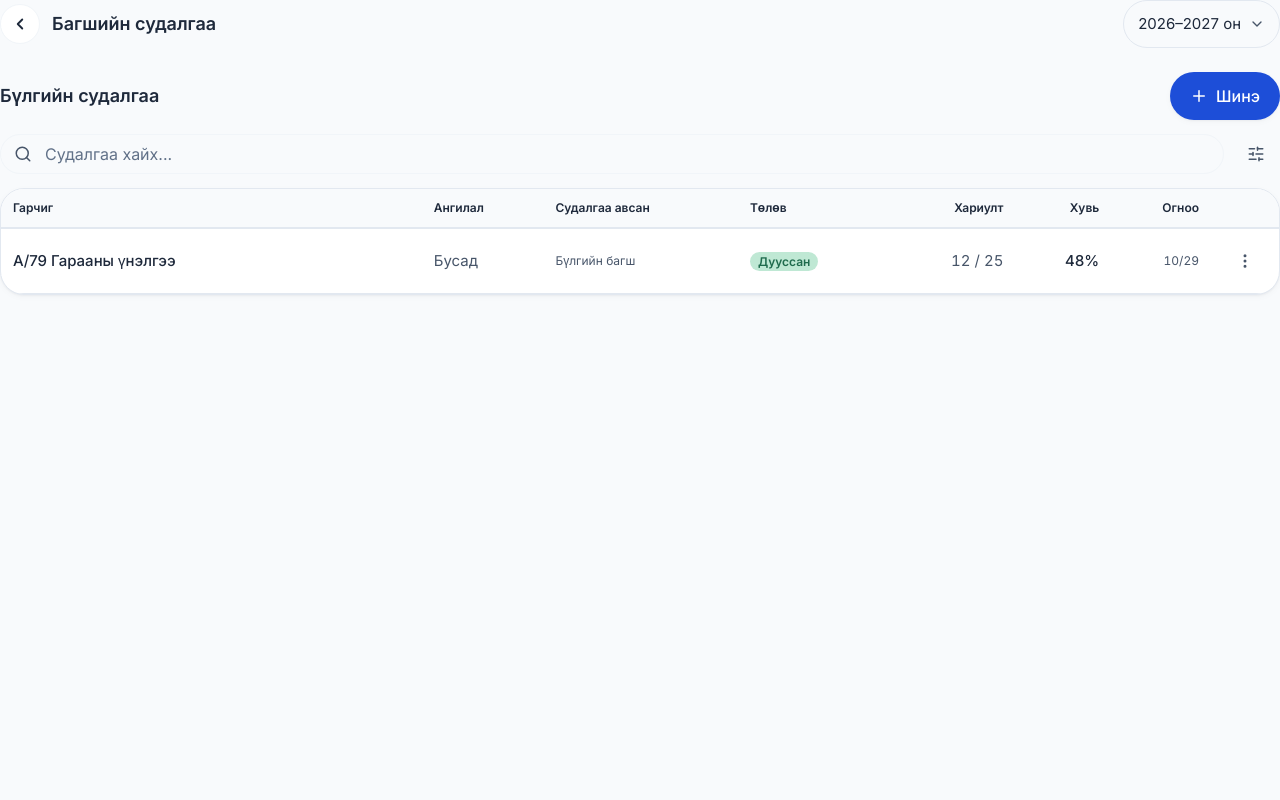
Scenario: the teacher's surveys › is laid out as the families' board, with + Шинэ beside Бүлгийн судалгаа
Expected: the dropdown named "Хичээлийн жил" is shown, [1123,0,1279,48]
Expected: the search field labelled "Судалгаа хайх" is shown, [0,134,1224,174]
Step 1. Click the button "Шинэ" → (1225, 96), box [1170,72,1279,120]
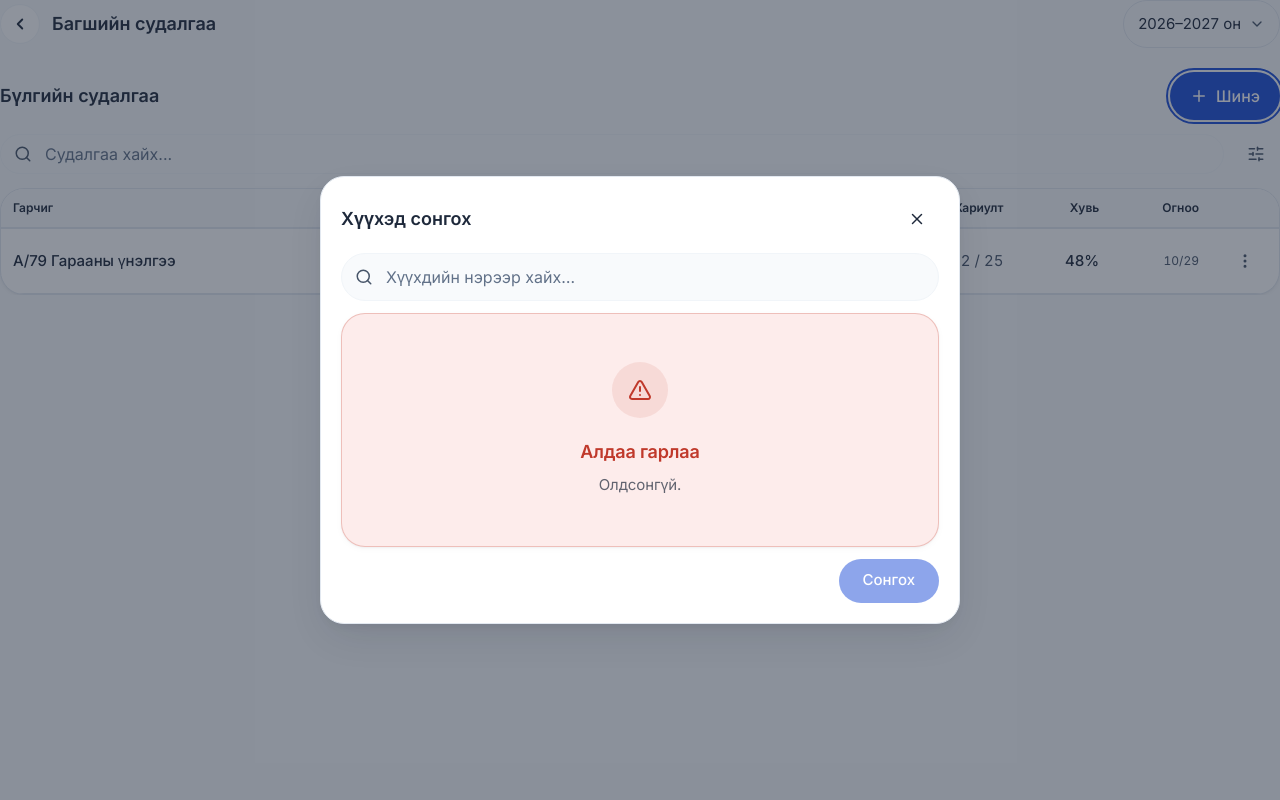
Expected: the dialog is shown
